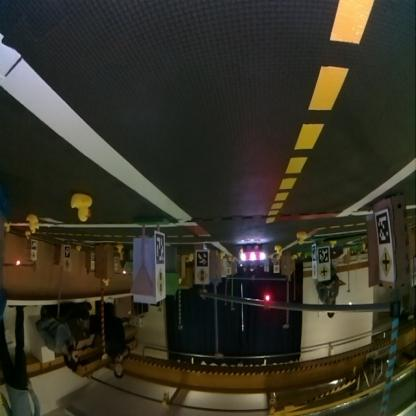Duckie: (70, 196, 92, 223), (26, 216, 38, 228), (295, 233, 306, 244), (274, 246, 280, 254)
Duckiebot: (238, 244, 264, 268)
Intersection sign: (380, 253, 390, 277), (318, 266, 328, 280)
QR code: (375, 213, 389, 245), (154, 234, 164, 264), (196, 251, 208, 267), (318, 247, 328, 264), (312, 245, 317, 262)
Signal sign: (156, 271, 165, 296), (195, 268, 206, 284)
Traffic light: (264, 296, 269, 304)
